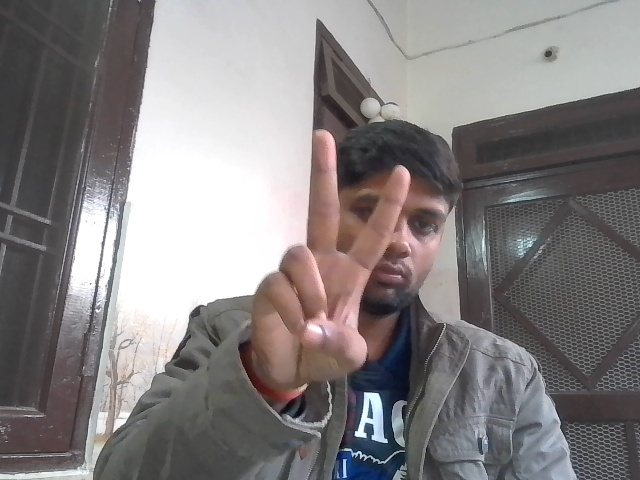Enjoy: (244, 124, 414, 384)
